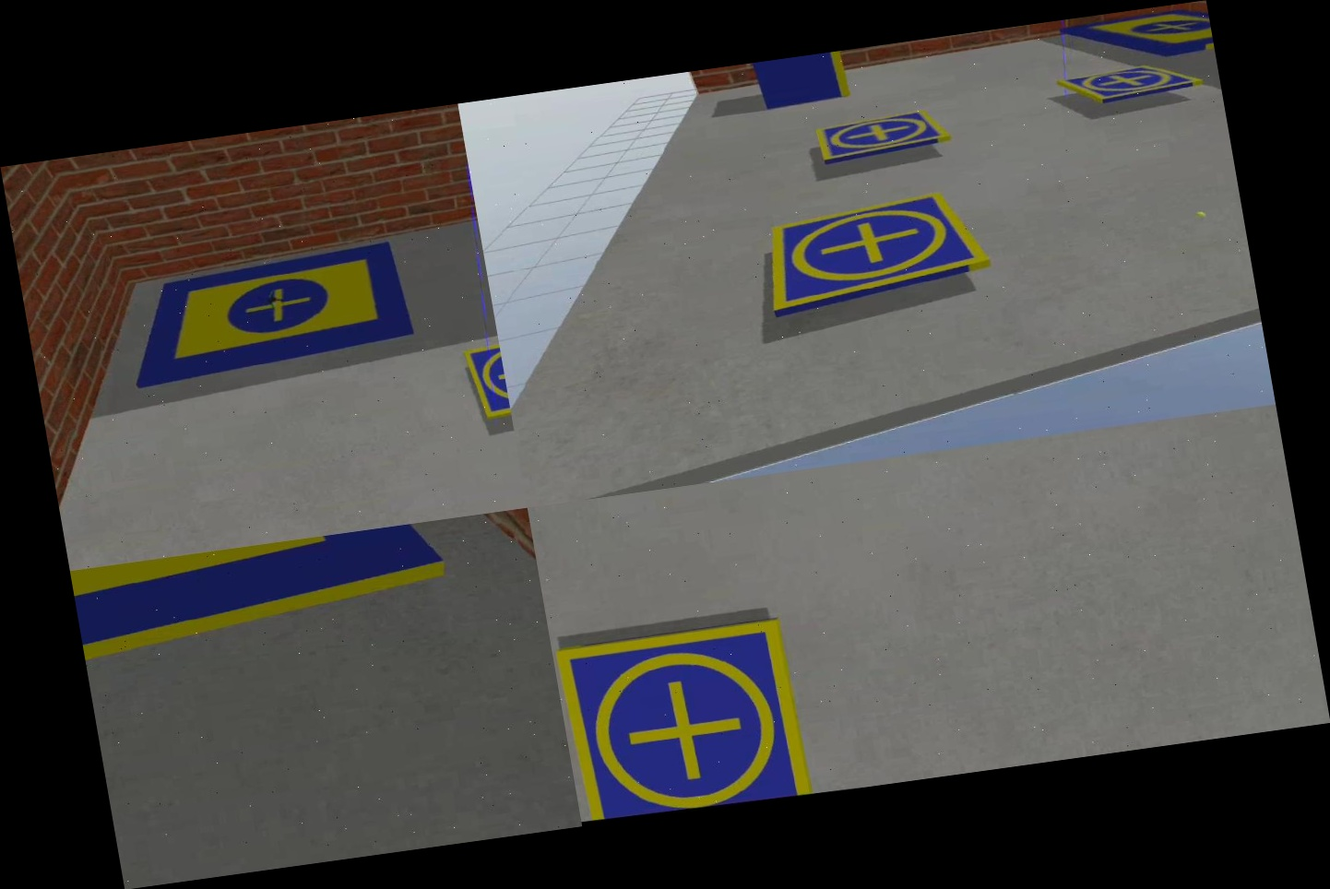large_base: (70, 519, 465, 691), (125, 239, 422, 390), (1057, 2, 1214, 72)
small_base: (552, 611, 813, 825), (758, 184, 997, 324), (1051, 55, 1205, 113), (813, 104, 955, 165), (467, 343, 513, 426)
